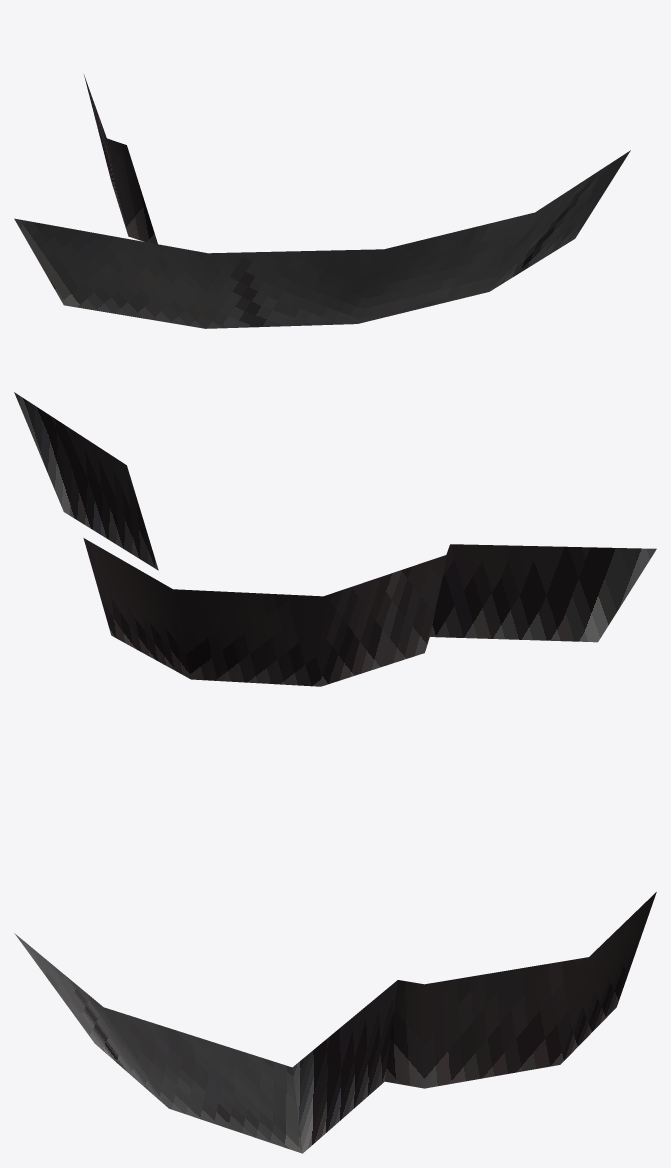
Rendered from meter-01.glb.
The picture shows the model from 3 angles, top to bottom: view 1: azimuth 30°, elevation 25°; view 2: azimuth 150°, elevation 25°; view 3: azimuth 270°, elevation 25°; orthographic projection. The views are drawn at different scales.
Parts seen in each view (by area): view 1: factory.meter-01-Mesh[0]; view 2: factory.meter-01-Mesh[0]; view 3: factory.meter-01-Mesh[0].
Part boxes in pixels (<box>): factory.meter-01-Mesh[0]: <box>14,75,630,328</box>; factory.meter-01-Mesh[0]: <box>14,392,656,686</box>; factory.meter-01-Mesh[0]: <box>14,892,656,1153</box>.
Bounding box in the file's own units: 1.04 × 0.16 × 0.8032.
Materials: 1 (1 with a texture image).
